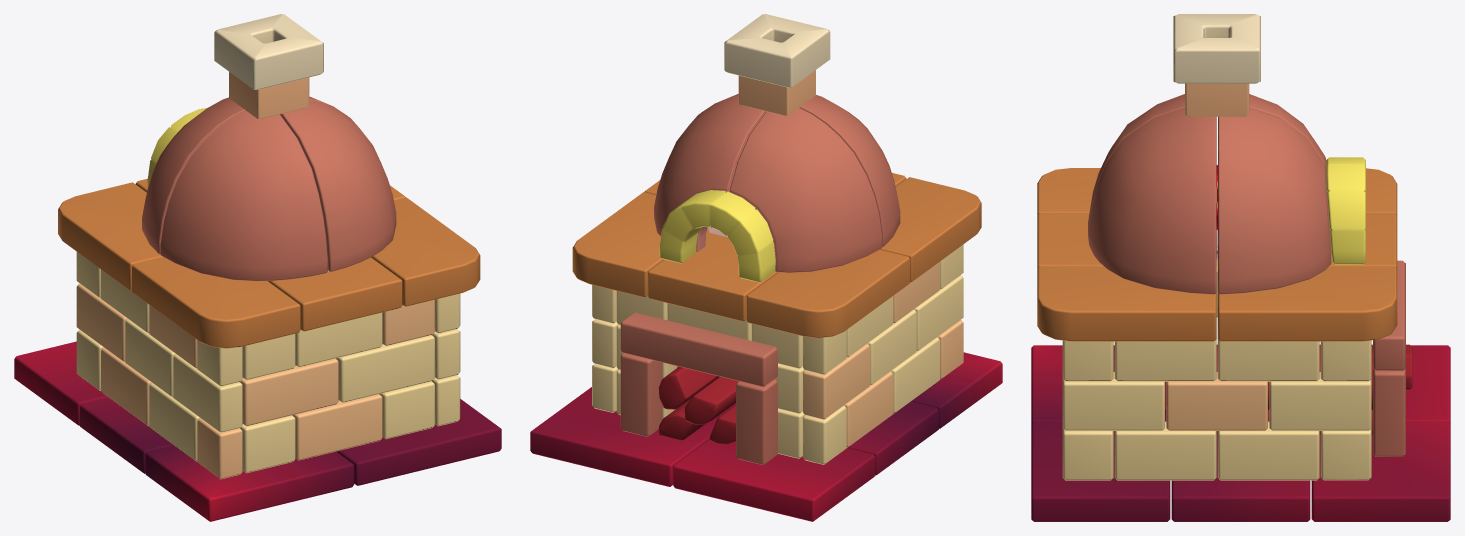
3 views of the same model, side by side, from view 1: azimuth 30°, elevation 25°; view 2: azimuth 150°, elevation 25°; view 3: azimuth 270°, elevation 25° (orthographic). The views are drawn at different scales.
Parts seen in each view (by area): view 1: LV3_BrickOven_01, LV3_BrickOven_02, LV4_BrickOven_02, LV5_BrickOven_04, LV4_BrickOven_03, LV3_BrickOven_04, LV4_BrickOven_06, LV1_BrickOven_01, LV7_BrickOven_02, LV2_BrickOven_22, LV2_BrickOven_21, LV2_BrickOven_01 (+24 smaller); view 2: LV2_BrickOven_01, LV5_BrickOven_03, LV3_BrickOven_04, LV4_BrickOven_05, LV2_BrickOven_02, LV1_BrickOven_04, LV3_BrickOven_05, LV4_BrickOven_02, LV1_BrickOven_03, LV7_BrickOven_01, LV1_BrickOven_01, LV3_BrickOven_01 (+28 smaller); view 3: LV3_BrickOven_02, LV2_BrickOven_02, LV3_BrickOven_05, LV4_BrickOven_03, LV4_BrickOven_05, LV4_BrickOven_06, LV1_BrickOven_01, LV5_BrickOven_02, LV1_BrickOven_09, LV1_BrickOven_10, LV2_BrickOven_14, LV2_BrickOven_15 (+19 smaller).
Part boxes in pixels (x1=…): LV3_BrickOven_01: x1=160, y1=111, x2=327, y2=281; LV3_BrickOven_02: x1=280, y1=100, x2=396, y2=271; LV4_BrickOven_02: x1=132, y1=257, x2=300, y2=348; LV5_BrickOven_04: x1=145, y1=445, x2=354, y2=521; LV4_BrickOven_03: x1=371, y1=198, x2=480, y2=306; LV3_BrickOven_04: x1=58, y1=182, x2=163, y2=291; LV4_BrickOven_06: x1=336, y1=399, x2=501, y2=485; LV1_BrickOven_01: x1=214, y1=14, x2=323, y2=89; LV7_BrickOven_02: x1=268, y1=257, x2=402, y2=331; LV2_BrickOven_22: x1=240, y1=358, x2=338, y2=426; LV2_BrickOven_21: x1=336, y1=335, x2=434, y2=402; LV2_BrickOven_01: x1=142, y1=97, x2=245, y2=254; LV2_BrickOven_01: x1=729, y1=108, x2=882, y2=272; LV5_BrickOven_03: x1=673, y1=440, x2=875, y2=521; LV3_BrickOven_04: x1=746, y1=249, x2=909, y2=337; LV4_BrickOven_05: x1=530, y1=387, x2=719, y2=486; LV2_BrickOven_02: x1=654, y1=97, x2=766, y2=251; LV1_BrickOven_04: x1=620, y1=312, x2=777, y2=386; LV3_BrickOven_05: x1=572, y1=192, x2=707, y2=297; LV4_BrickOven_02: x1=879, y1=177, x2=981, y2=282; LV1_BrickOven_03: x1=659, y1=190, x2=775, y2=282; LV7_BrickOven_01: x1=648, y1=228, x2=778, y2=321; LV1_BrickOven_01: x1=724, y1=14, x2=830, y2=87; LV3_BrickOven_01: x1=799, y1=95, x2=900, y2=246; LV3_BrickOven_02: x1=1088, y1=108, x2=1216, y2=294; LV2_BrickOven_02: x1=1218, y1=108, x2=1331, y2=294; LV3_BrickOven_05: x1=1217, y1=267, x2=1397, y2=341; LV4_BrickOven_03: x1=1037, y1=267, x2=1216, y2=341; LV4_BrickOven_05: x1=1311, y1=422, x2=1450, y2=521; LV4_BrickOven_06: x1=1031, y1=422, x2=1170, y2=521; LV1_BrickOven_01: x1=1173, y1=14, x2=1260, y2=83; LV5_BrickOven_02: x1=1171, y1=435, x2=1310, y2=521; LV1_BrickOven_09: x1=1269, y1=372, x2=1371, y2=430; LV1_BrickOven_10: x1=1062, y1=372, x2=1164, y2=430; LV2_BrickOven_14: x1=1217, y1=421, x2=1319, y2=480; LV2_BrickOven_15: x1=1114, y1=421, x2=1216, y2=480.
Size of the model in its own units: 4.47 by 5.64 by 5.17.
